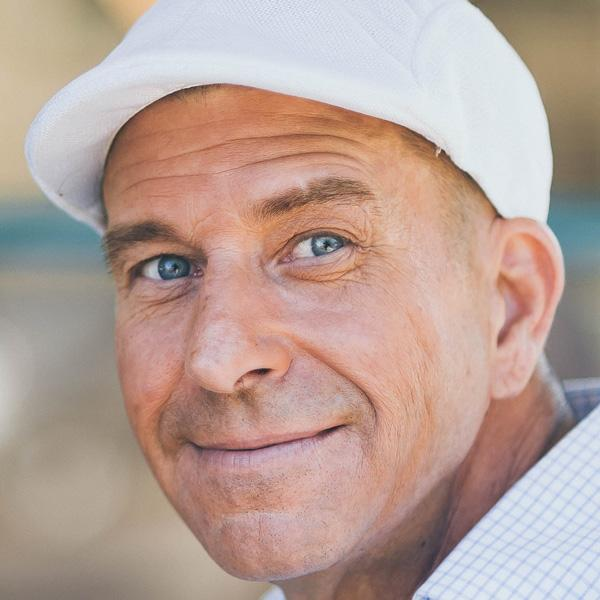Eyes: (265, 219, 365, 282), (118, 241, 209, 304)
